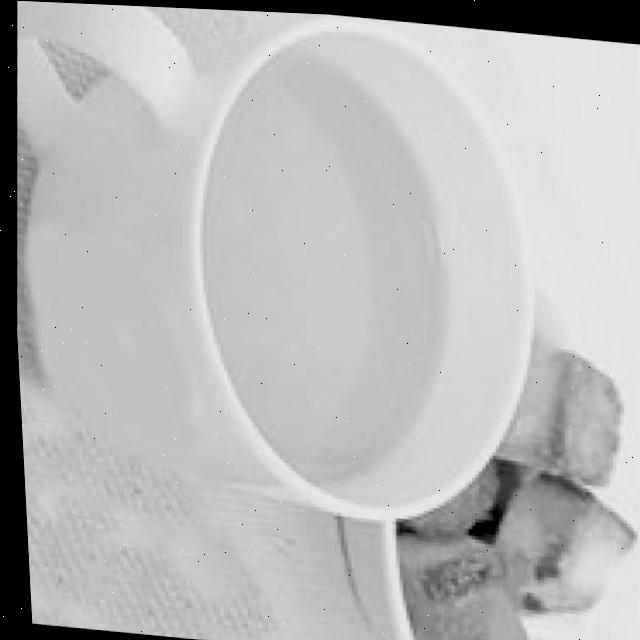汤锅炖物: (0, 0, 565, 549)
